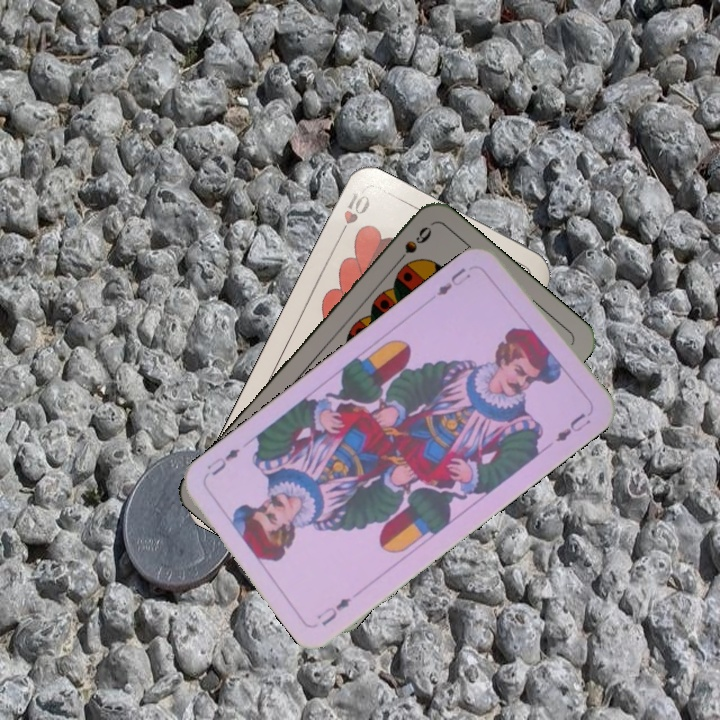EU: (432, 263, 473, 299), (313, 593, 354, 629)
H10: (333, 188, 373, 243)
S9: (389, 222, 435, 270)
